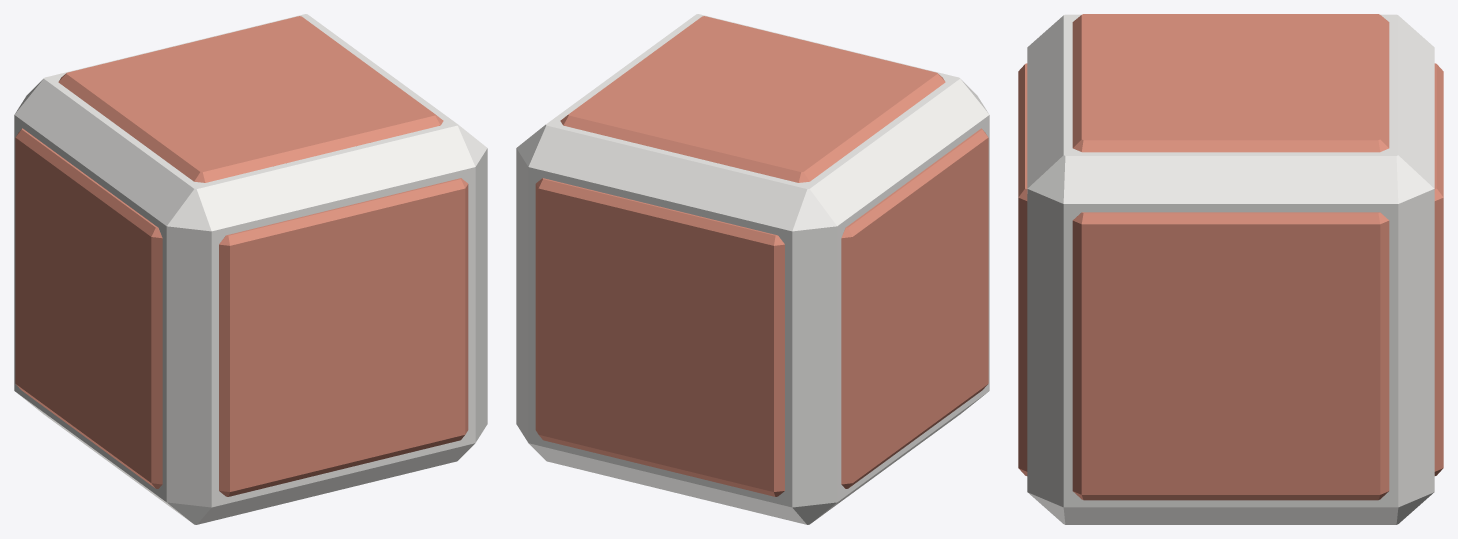
3 renders of one model, left to right at view 1: azimuth 30°, elevation 25°; view 2: azimuth 150°, elevation 25°; view 3: azimuth 270°, elevation 25°, orthographic. The views are drawn at different scales.
Parts seen in each view (by area): view 1: price-cube; view 2: price-cube; view 3: price-cube.
Boxes of the visible parts, x1,y1,x2,y2 form: price-cube: [14, 14, 487, 524]; price-cube: [516, 14, 989, 524]; price-cube: [1018, 14, 1443, 524].
Size of the model in its own units: 0.094 by 0.092 by 0.094.
